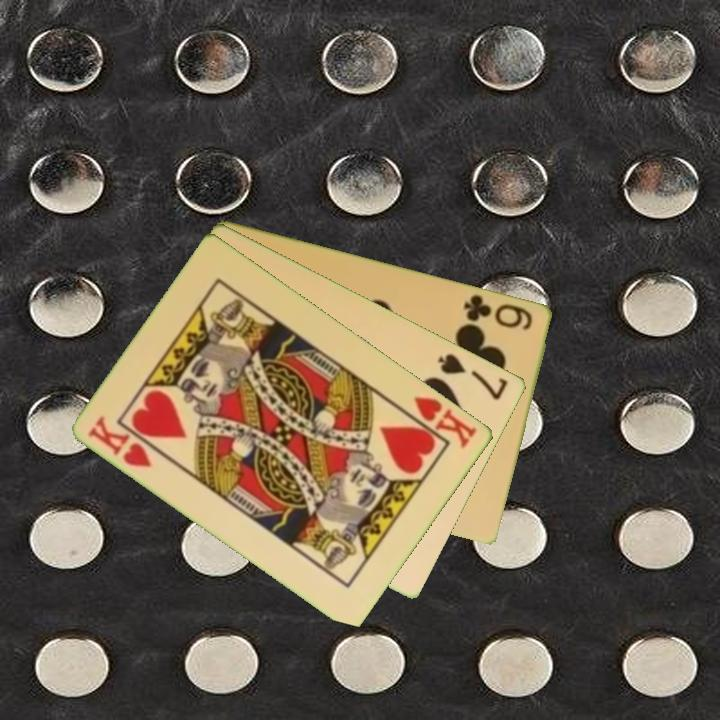6c: (460, 290, 536, 333)
7s: (435, 349, 512, 403)
Kh: (399, 392, 481, 452), (84, 412, 156, 471)
